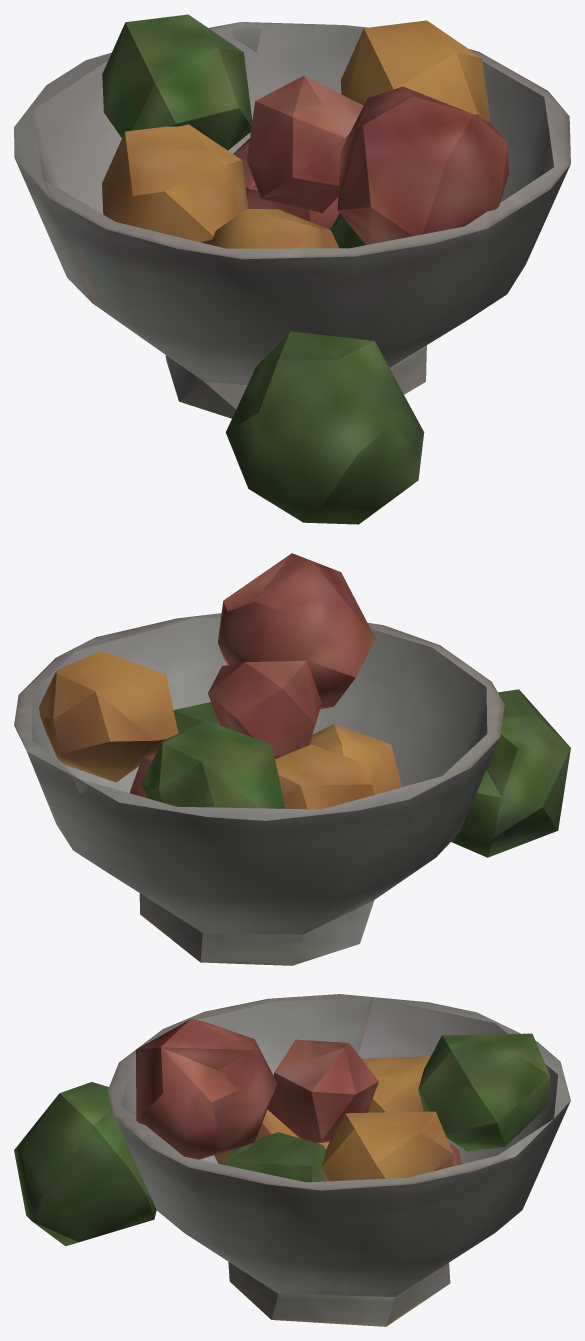
The model's file is fruit-bowl.lod1.glb.
3 renders of one model, top to bottom at view 1: azimuth 30°, elevation 25°; view 2: azimuth 150°, elevation 25°; view 3: azimuth 270°, elevation 25°, orthographic. The views are drawn at different scales.
Visible parts, largest first — view 1: fruit-bowl; view 2: fruit-bowl; view 3: fruit-bowl.
Boxes of the visible parts, x1,y1,x2,y2 form: fruit-bowl: (14,14,570,524); fruit-bowl: (14,553,570,965); fruit-bowl: (14,994,570,1326).
Size of the model in its own units: 0.2207 by 0.1477 by 0.266.
Materials: 1 (1 with a texture image).
